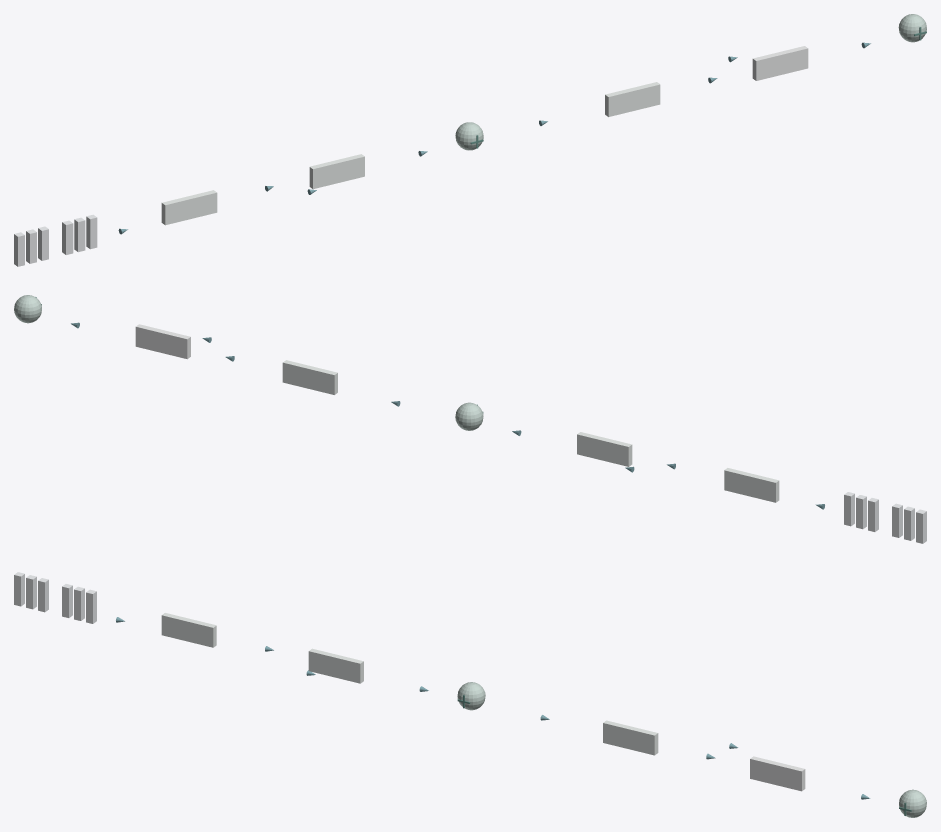
File: vit-encoder.glb
The picture shows the model from 3 angles, top to bottom: view 1: azimuth 30°, elevation 25°; view 2: azimuth 150°, elevation 25°; view 3: azimuth 330°, elevation 25°; orthographic projection.
Visible parts, largest first — view 1: Layer norm · N × D (×2), MLP · Dense–GELU–Dense · N × D, Multi-head · self-attention · N × D, Add · N × D (×2); view 2: Layer norm · N × D (×2), Multi-head · self-attention · N × D, MLP · Dense–GELU–Dense · N × D, Add · N × D (×2); view 3: Layer norm · N × D (×2), MLP · Dense–GELU–Dense · N × D, Multi-head · self-attention · N × D, Add · N × D (×2).
Boxes of the visible parts, x1=… form: Layer norm · N × D (×2): x1=161, y1=82, x2=660, y2=225; MLP · Dense–GELU–Dense · N × D: x1=752, y1=46, x2=808, y2=80; Multi-head · self-attention · N × D: x1=309, y1=154, x2=364, y2=189; Add · N × D (×2): x1=455, y1=14, x2=926, y2=150; Layer norm · N × D (×2): x1=282, y1=360, x2=779, y2=502; Multi-head · self-attention · N × D: x1=577, y1=432, x2=632, y2=466; MLP · Dense–GELU–Dense · N × D: x1=135, y1=324, x2=190, y2=359; Add · N × D (×2): x1=14, y1=295, x2=483, y2=430; Layer norm · N × D (×2): x1=161, y1=613, x2=658, y2=755; MLP · Dense–GELU–Dense · N × D: x1=750, y1=756, x2=805, y2=791; Multi-head · self-attention · N × D: x1=308, y1=648, x2=363, y2=683; Add · N × D (×2): x1=457, y1=682, x2=926, y2=817.
Bounding box in the file's own units: 33.3 × 1.18 × 0.95.
